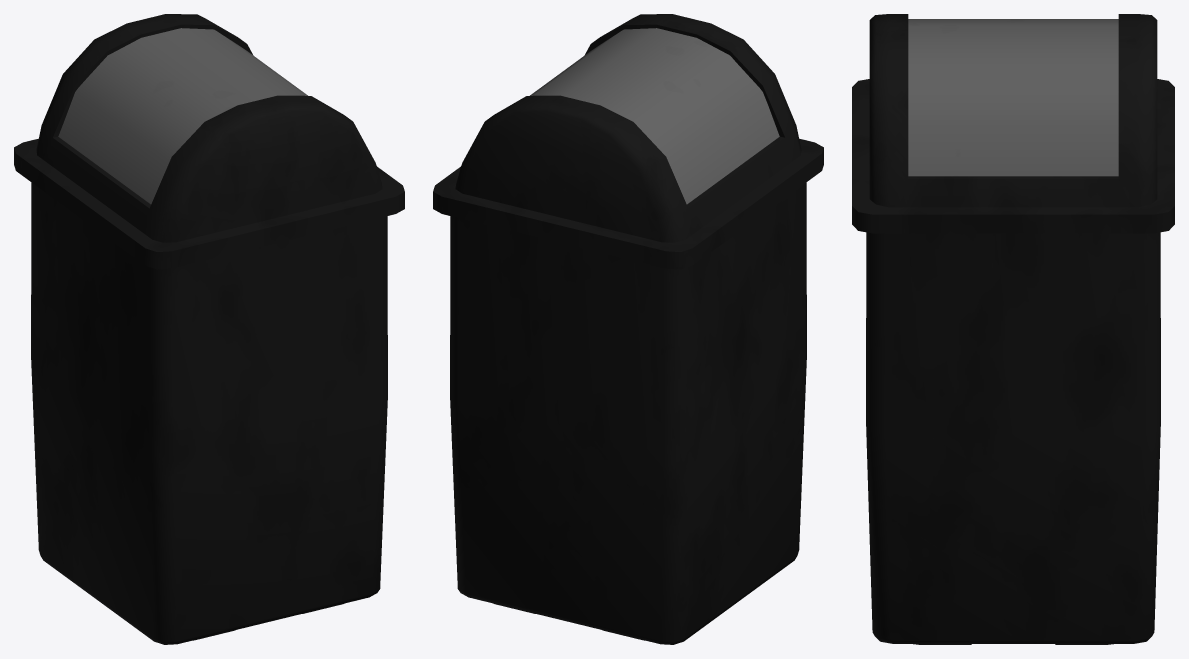
Rendered from trashcan.fbx.
3 renders of one model, left to right at view 1: azimuth 30°, elevation 25°; view 2: azimuth 150°, elevation 25°; view 3: azimuth 270°, elevation 25°, orthographic. The views are drawn at different scales.
Visible parts, largest first — view 1: trashcan; view 2: trashcan; view 3: trashcan.
Part boxes in pixels (bbox=[...]): trashcan: bbox=[14, 14, 404, 644]; trashcan: bbox=[433, 14, 823, 644]; trashcan: bbox=[852, 14, 1174, 644].
Size of the model in its own units: 26.6 by 50.67 by 26.6.
1 material, 1 textured.
